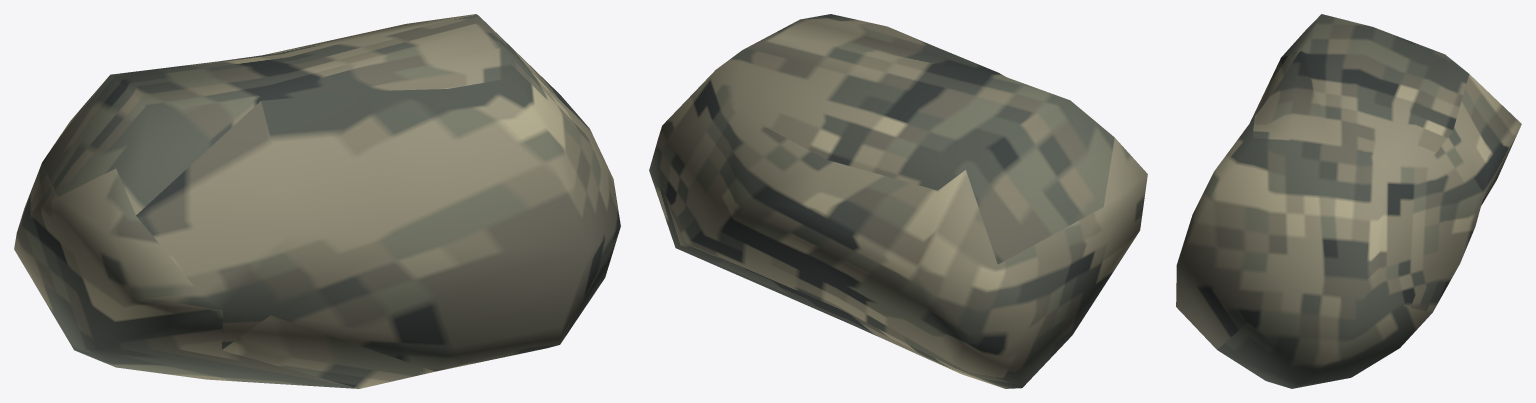
The model's file is rockSmall02.fbx.
3 views of the same model, side by side, from view 1: azimuth 30°, elevation 25°; view 2: azimuth 150°, elevation 25°; view 3: azimuth 270°, elevation 25° (orthographic). The views are drawn at different scales.
Visible parts, largest first — view 1: RockSmall2; view 2: RockSmall2; view 3: RockSmall2.
Boxes of the visible parts, x1,y1,x2,y2 form: RockSmall2: (14,14,620,388); RockSmall2: (649,14,1147,388); RockSmall2: (1176,14,1521,388).
Bounding box in the file's own units: 19.16 × 10.95 × 13.8.
